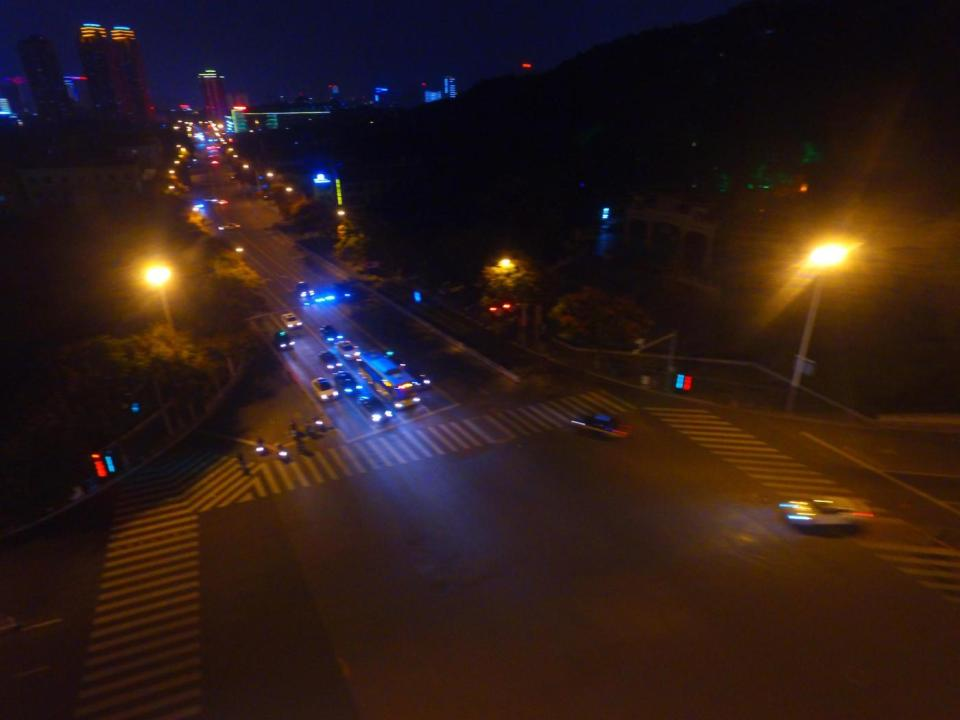bus: (355, 354, 421, 411)
car: (789, 496, 874, 528), (571, 411, 630, 443), (358, 397, 394, 426), (311, 375, 340, 403), (335, 372, 360, 397), (404, 367, 429, 391), (316, 350, 342, 371), (334, 339, 358, 361), (273, 330, 293, 352), (318, 327, 338, 344), (297, 280, 314, 300), (281, 314, 303, 329), (221, 223, 242, 234)
